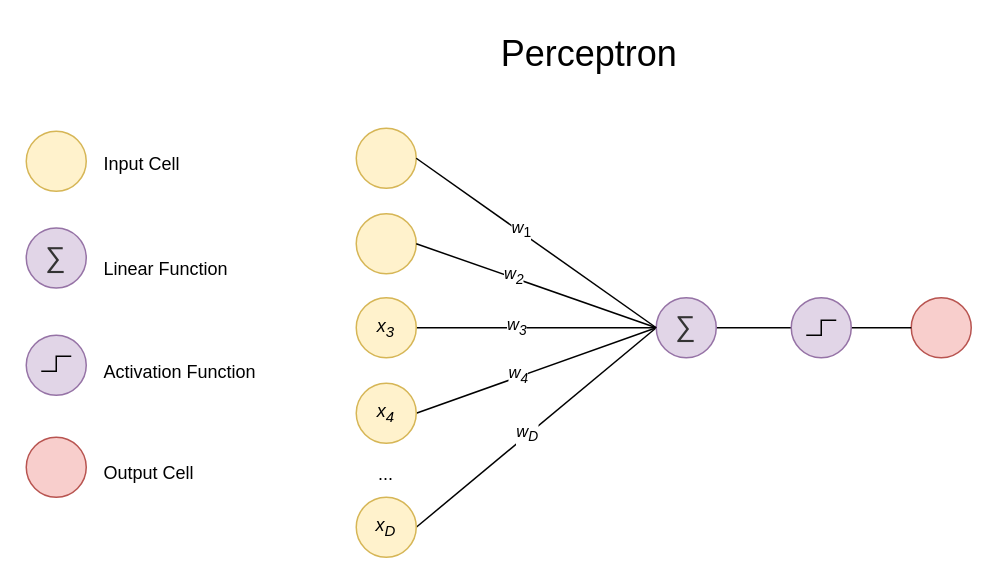
Image size: 998x584. Some labels were removed from this diagram. Each missing label, with the centre of its shape:
"x 1" belongs at (x=385, y=157).
"x 2" belongs at (x=385, y=243).
